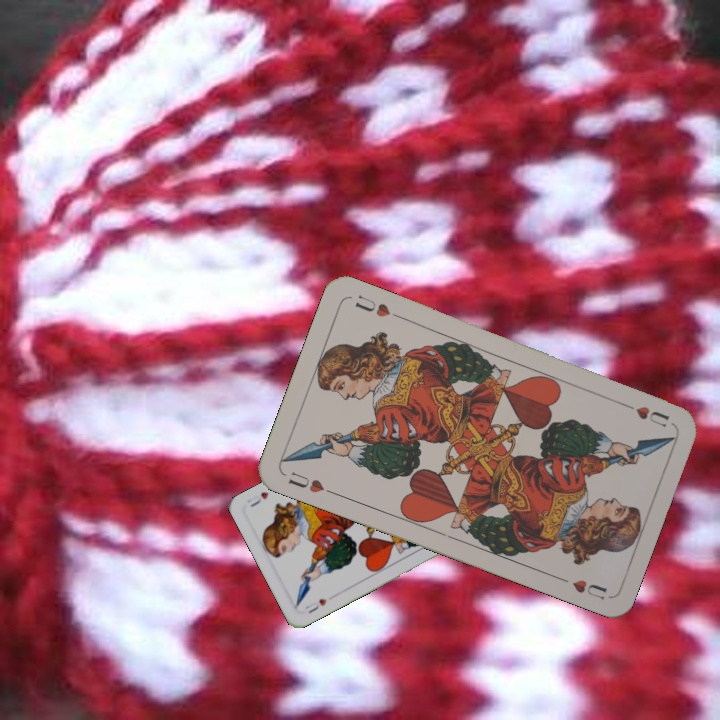HU: (617, 398, 671, 430), (283, 467, 337, 497), (301, 595, 330, 616)
